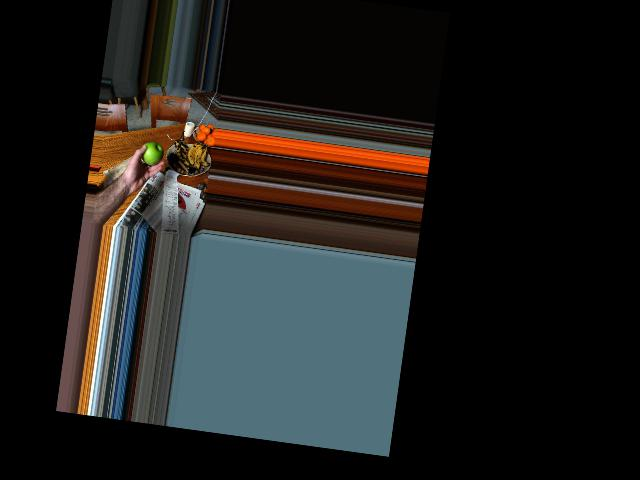apple: (135, 138, 165, 170)
